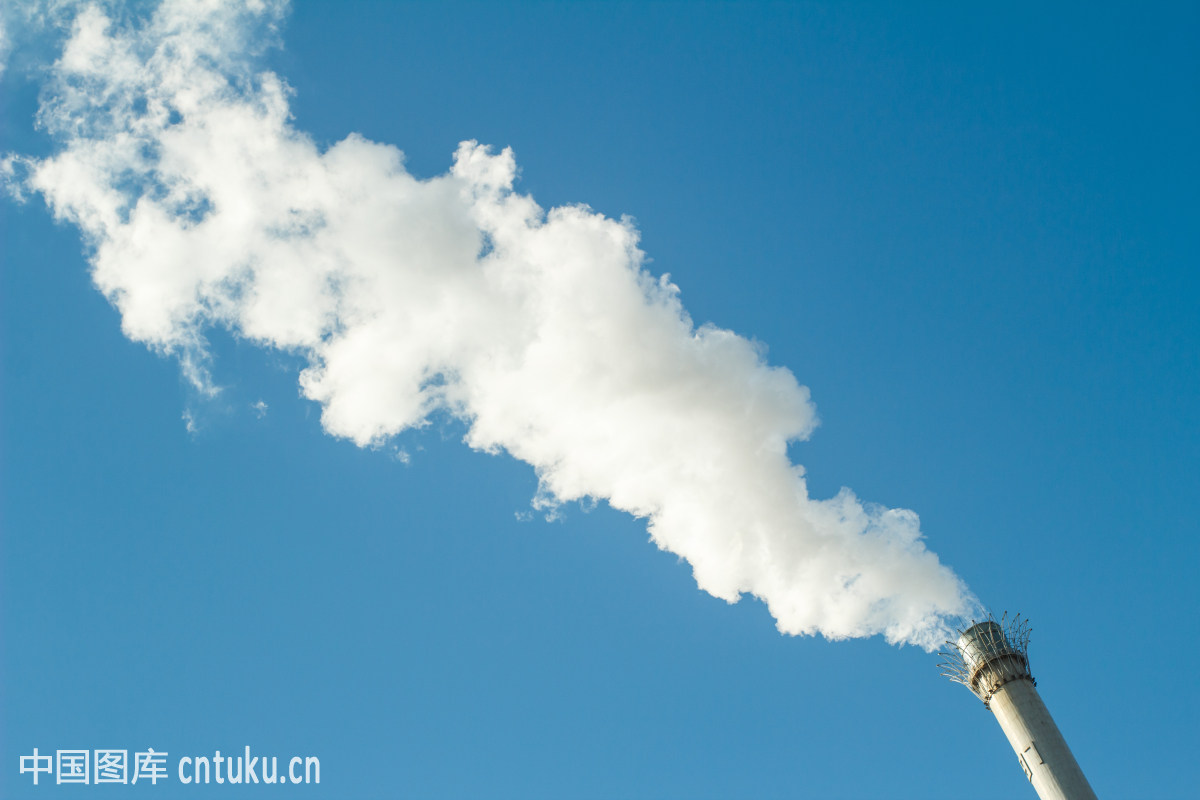dust: (327, 192, 1027, 669)
